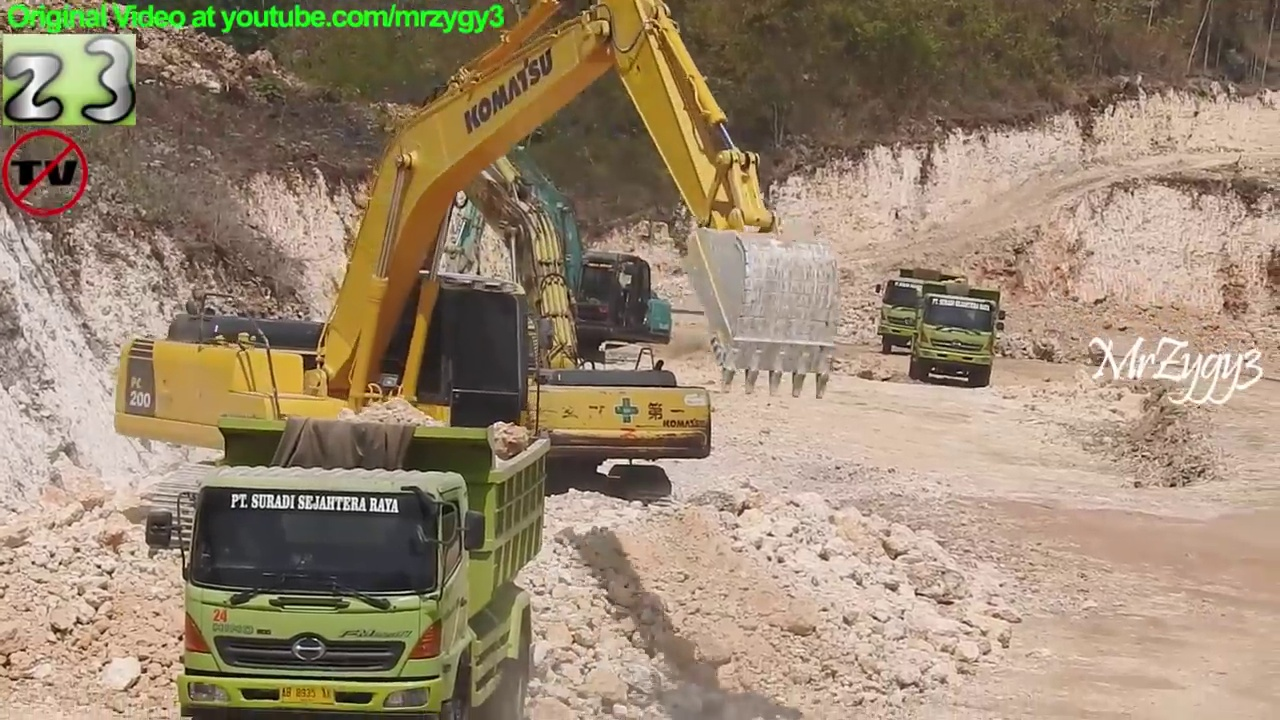excavator: (112, 1, 846, 559), (284, 64, 720, 513), (406, 93, 675, 390)
truck: (144, 405, 556, 720), (907, 279, 1010, 393), (871, 265, 974, 361)
